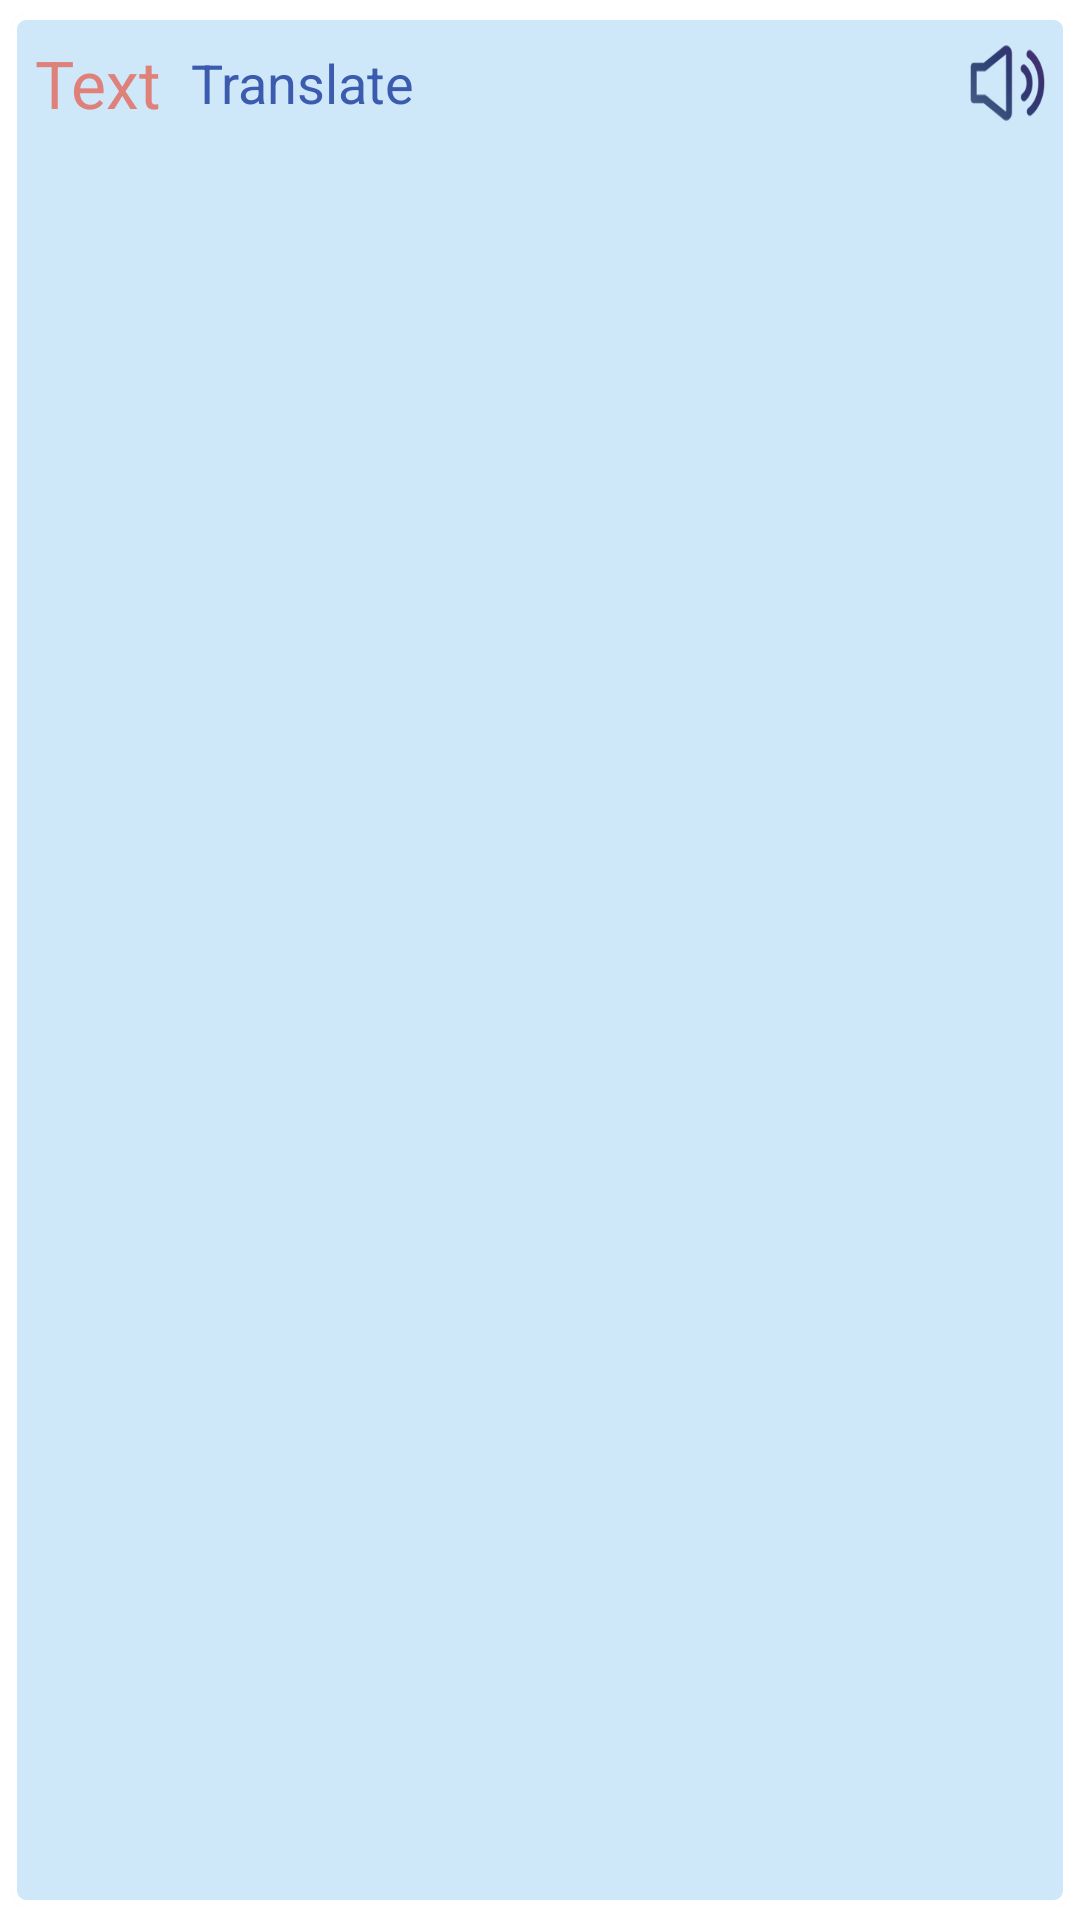

Where icons sit on this 1080 x 1920 app screen, as (left=x1, top=y1, right=x2, bottom=y2):
Speech word: (left=970, top=45, right=1045, bottom=121)
